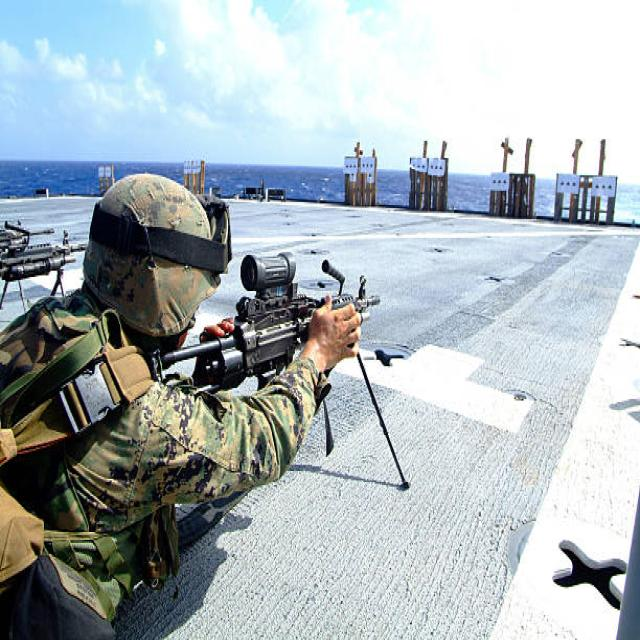soldier: (1, 169, 391, 640)
